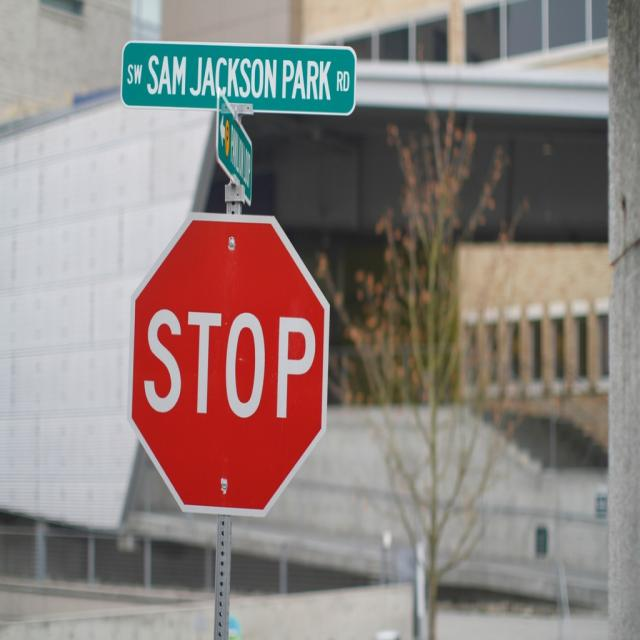Stop-sign: (126, 209, 332, 515)
